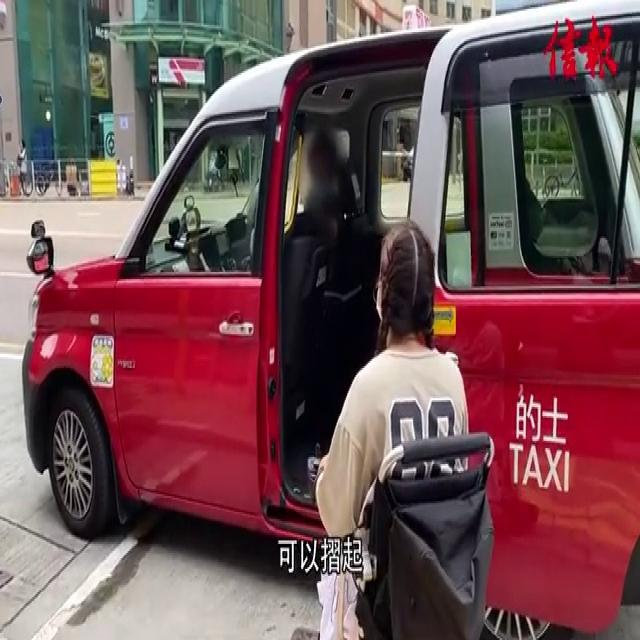wheelchairs: (300, 412, 502, 640)
